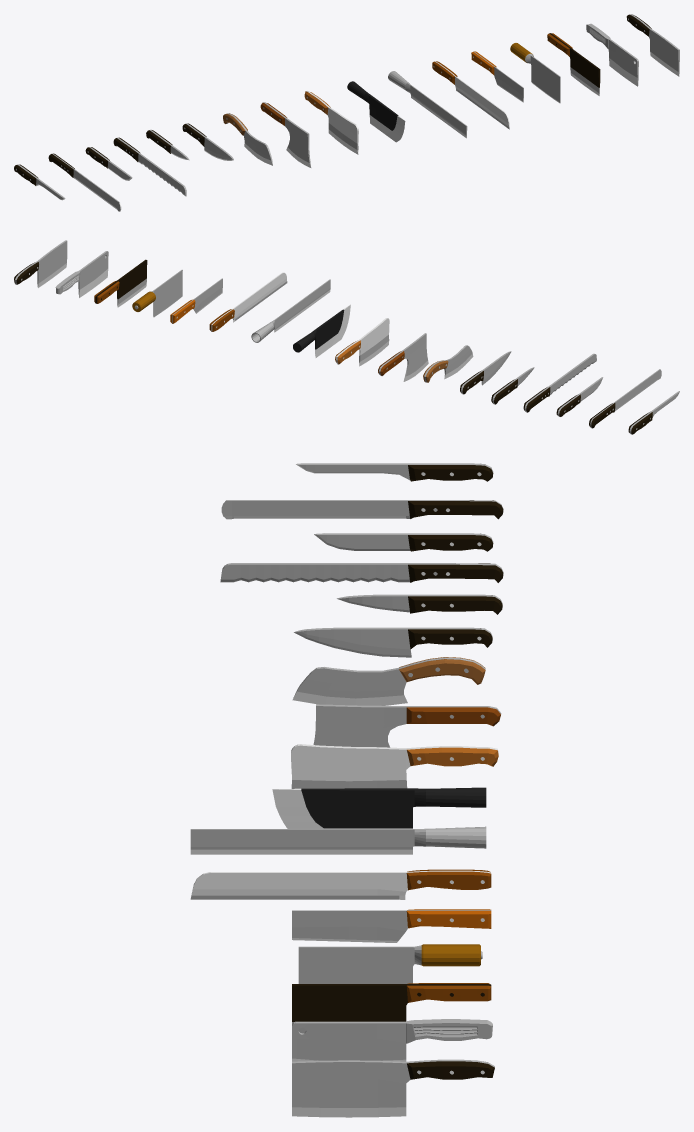
Rendered from Kitchen`s Knife.fbx.
3 renders of one model, top to bottom at view 1: azimuth 30°, elevation 25°; view 2: azimuth 150°, elevation 25°; view 3: azimuth 270°, elevation 25°, orthographic. The views are drawn at different scales.
Visible parts, largest first — view 1: 猪肉刀Butcher Knife, 斩骨刀1Bone-Chopper Knife1, 菜刀2Kitchen Knife2, 菜刀3Kitchen Knife3, 菜刀1Kitchen Knife1, 菜刀4Kitchen Knife4, 斩骨刀2Bone-Chopper Knife2, 西瓜刀1Melon Knife1, 西瓜刀2Melon Knife2, 斩骨刀3Bone-Chopper Knife3, 面包刀Bread Knife, 火腿刀Ham Knife (+5 smaller); view 2: 猪肉刀Butcher Knife, 斩骨刀1Bone-Chopper Knife1, 菜刀1Kitchen Knife1, 菜刀2Kitchen Knife2, 菜刀3Kitchen Knife3, 菜刀4Kitchen Knife4, 斩骨刀2Bone-Chopper Knife2, 西瓜刀1Melon Knife1, 西瓜刀2Melon Knife2, 面包刀Bread Knife, 斩骨刀3Bone-Chopper Knife3, 火腿刀Ham Knife (+5 smaller); view 3: 菜刀1Kitchen Knife1, 西瓜刀1Melon Knife1, 西瓜刀2Melon Knife2, 猪肉刀Butcher Knife, 斩骨刀1Bone-Chopper Knife1, 菜刀2Kitchen Knife2, 菜刀3Kitchen Knife3, 菜刀4Kitchen Knife4, 斩骨刀3Bone-Chopper Knife3, 片鸭刀Duck-Slice Kinfe, 斩骨刀2Bone-Chopper Knife2, 面包刀Bread Knife (+5 smaller).
Boxes of the visible parts, bbox=[...] form: 猪肉刀Butcher Knife: bbox=[347, 81, 405, 142]; 斩骨刀1Bone-Chopper Knife1: bbox=[304, 91, 358, 154]; 菜刀2Kitchen Knife2: bbox=[586, 23, 638, 86]; 菜刀3Kitchen Knife3: bbox=[547, 33, 600, 95]; 菜刀1Kitchen Knife1: bbox=[626, 14, 679, 76]; 菜刀4Kitchen Knife4: bbox=[510, 43, 560, 103]; 斩骨刀2Bone-Chopper Knife2: bbox=[260, 102, 311, 167]; 西瓜刀1Melon Knife1: bbox=[432, 61, 509, 129]; 西瓜刀2Melon Knife2: bbox=[388, 71, 467, 138]; 斩骨刀3Bone-Chopper Knife3: bbox=[223, 113, 272, 165]; 面包刀Bread Knife: bbox=[113, 137, 186, 196]; 火腿刀Ham Knife: bbox=[48, 153, 121, 211]; 猪肉刀Butcher Knife: bbox=[293, 304, 350, 357]; 斩骨刀1Bone-Chopper Knife1: bbox=[335, 318, 389, 366]; 菜刀1Kitchen Knife1: bbox=[14, 240, 67, 287]; 菜刀2Kitchen Knife2: bbox=[55, 251, 108, 297]; 菜刀3Kitchen Knife3: bbox=[94, 259, 147, 307]; 菜刀4Kitchen Knife4: bbox=[132, 269, 182, 317]; 斩骨刀2Bone-Chopper Knife2: bbox=[378, 333, 428, 381]; 西瓜刀1Melon Knife1: bbox=[209, 272, 287, 331]; 西瓜刀2Melon Knife2: bbox=[251, 279, 330, 342]; 面包刀Bread Knife: bbox=[523, 353, 596, 412]; 斩骨刀3Bone-Chopper Knife3: bbox=[423, 345, 473, 382]; 火腿刀Ham Knife: bbox=[589, 369, 661, 428]; 菜刀1Kitchen Knife1: bbox=[292, 1059, 494, 1117]; 西瓜刀1Melon Knife1: bbox=[190, 869, 491, 899]; 西瓜刀2Melon Knife2: bbox=[190, 826, 486, 854]; 猪肉刀Butcher Knife: bbox=[272, 787, 486, 828]; 斩骨刀1Bone-Chopper Knife1: bbox=[291, 744, 498, 788]; 菜刀2Kitchen Knife2: bbox=[292, 1019, 492, 1061]; 菜刀3Kitchen Knife3: bbox=[292, 983, 491, 1033]; 菜刀4Kitchen Knife4: bbox=[298, 944, 482, 983]; 斩骨刀3Bone-Chopper Knife3: bbox=[292, 657, 485, 705]; 片鸭刀Duck-Slice Kinfe: bbox=[292, 909, 491, 942]; 斩骨刀2Bone-Chopper Knife2: bbox=[313, 704, 501, 747]; 面包刀Bread Knife: bbox=[220, 563, 503, 582].
Size of the model in its own units: 2498 by 147 by 547.
